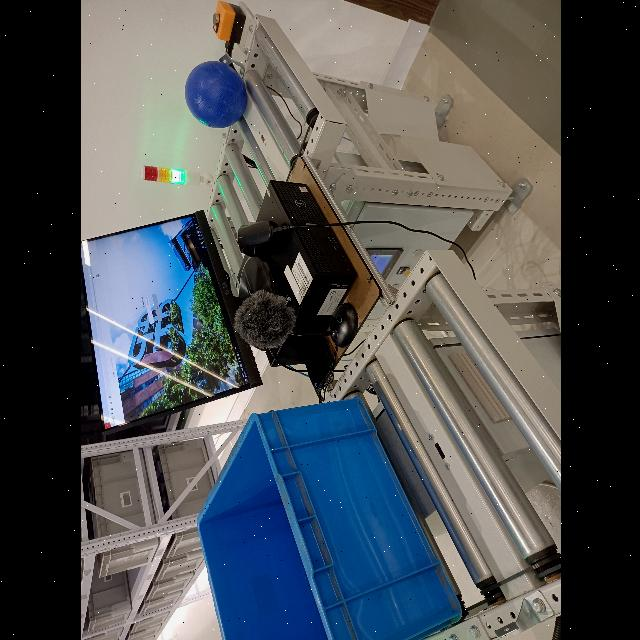B: (184, 62, 248, 128)
